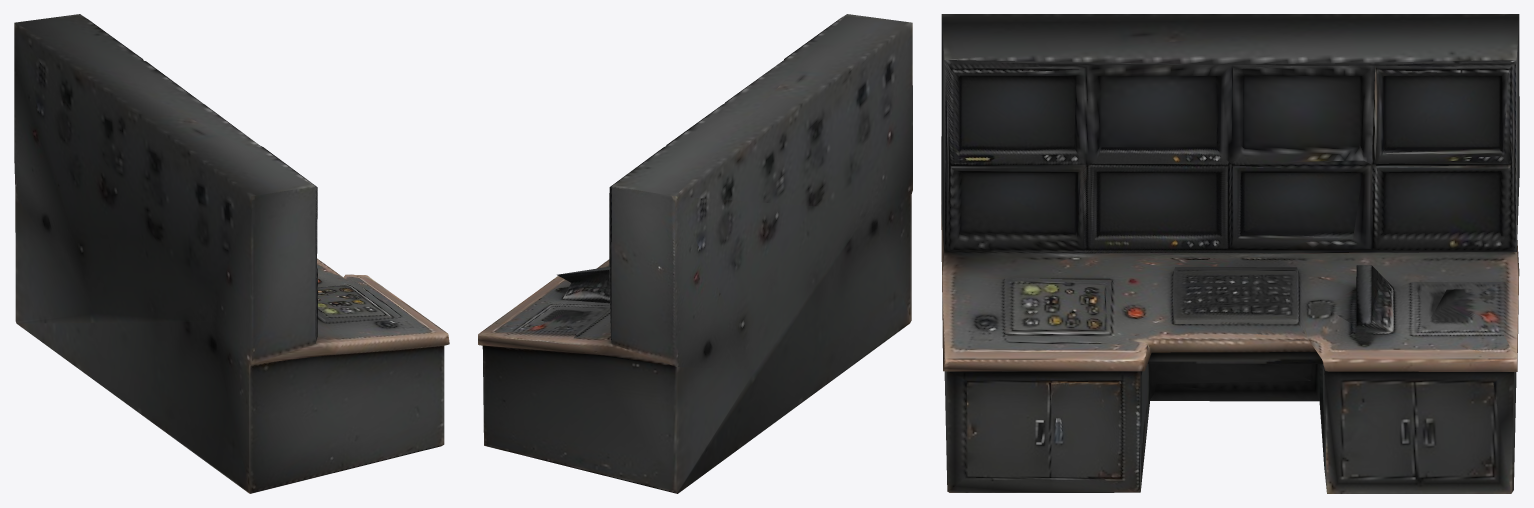
File: tripo_convert_927e2d13-c31e-4fdb-9974-cad5015914af.fbx
The picture shows the model from 3 angles, left to right: view 1: azimuth 30°, elevation 25°; view 2: azimuth 150°, elevation 25°; view 3: azimuth 270°, elevation 25°; orthographic projection. The views are drawn at different scales.
Visible parts, largest first — view 1: tripo_node_927e2d13; view 2: tripo_node_927e2d13; view 3: tripo_node_927e2d13.
Part boxes in pixels (<box>): tripo_node_927e2d13: <box>14,14,449,493</box>; tripo_node_927e2d13: <box>478,14,912,493</box>; tripo_node_927e2d13: <box>941,14,1519,493</box>.
Size of the model in its own units: 0.4823 by 0.6946 by 0.9991.
Materials: 1 (1 with a texture image).
